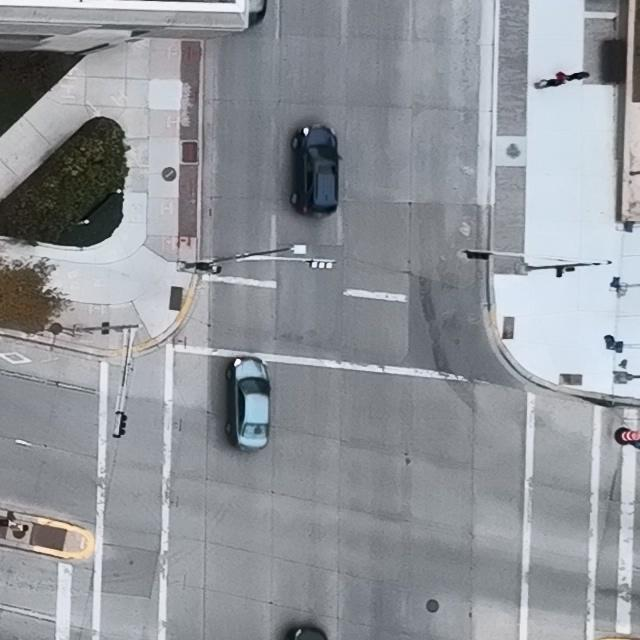car: (290, 125, 342, 217), (226, 356, 271, 451)
